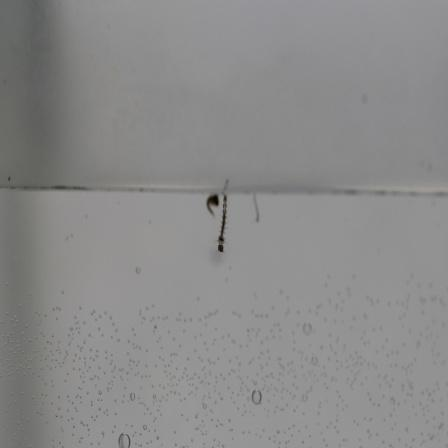Jentik-Nyamuk: (203, 189, 231, 257)
